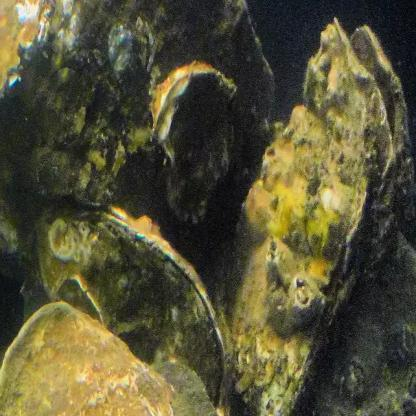Oyster- Indeterminate: (45, 197, 233, 416), (152, 62, 233, 224)
Oyster-Closed: (231, 21, 395, 416), (0, 300, 215, 416), (313, 232, 416, 416), (351, 22, 416, 253)
